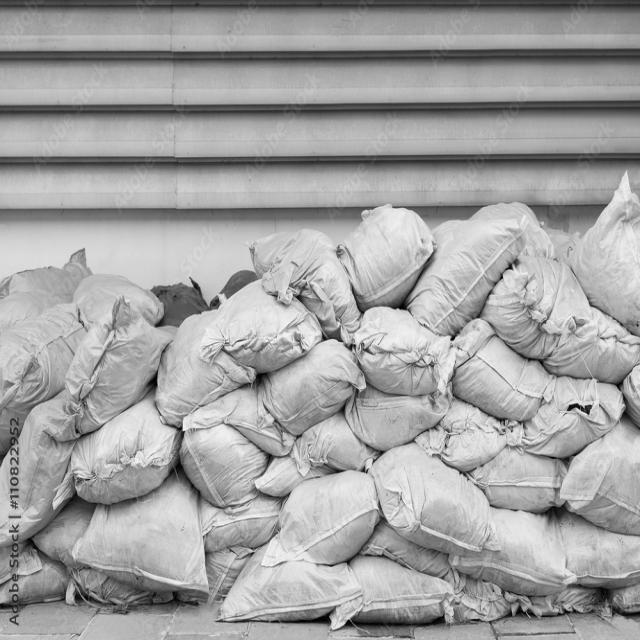sack: (470, 201, 590, 360), (71, 466, 209, 598), (63, 292, 175, 436), (53, 393, 184, 507), (368, 442, 499, 556), (214, 532, 363, 630), (405, 220, 524, 336), (1, 302, 87, 455), (565, 172, 640, 334), (247, 228, 361, 333), (155, 308, 258, 424), (200, 277, 322, 374), (261, 468, 380, 566), (448, 505, 574, 596), (1, 389, 76, 541), (336, 202, 436, 310), (452, 317, 552, 419), (260, 338, 365, 435), (558, 414, 640, 536), (331, 554, 456, 630), (354, 304, 454, 394), (181, 382, 296, 457), (524, 375, 624, 458), (180, 422, 270, 514), (414, 398, 520, 472), (542, 305, 640, 384), (345, 380, 454, 450), (2, 247, 91, 331), (360, 518, 463, 584), (74, 272, 165, 342), (470, 447, 568, 512), (558, 511, 640, 587), (291, 412, 378, 474), (199, 493, 282, 550), (31, 496, 96, 566), (1, 542, 68, 608), (255, 455, 333, 496), (202, 547, 254, 603)
